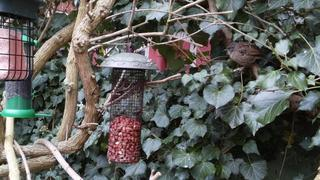dunnock: (222, 42, 278, 73)
